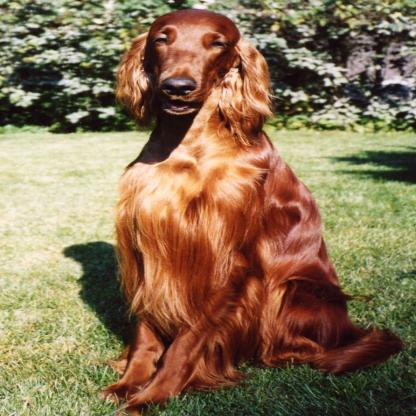Irish_setter: (101, 10, 401, 414)
